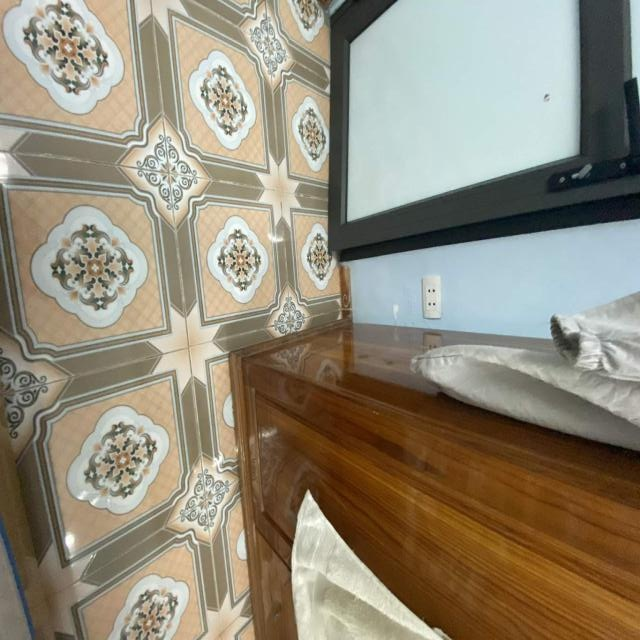outlet: (422, 275, 442, 319)
